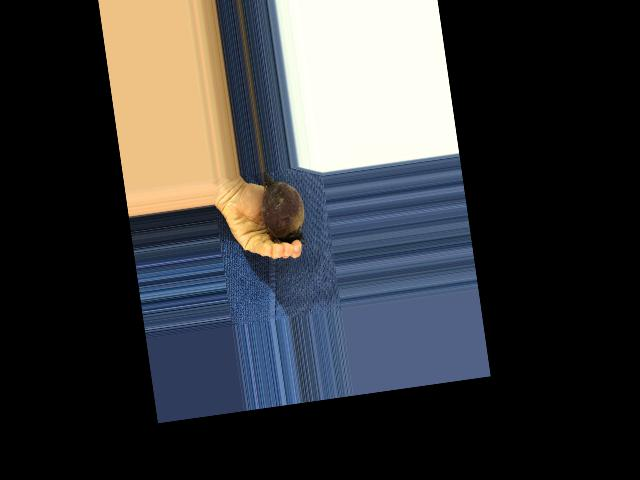beet: (255, 167, 308, 251)
